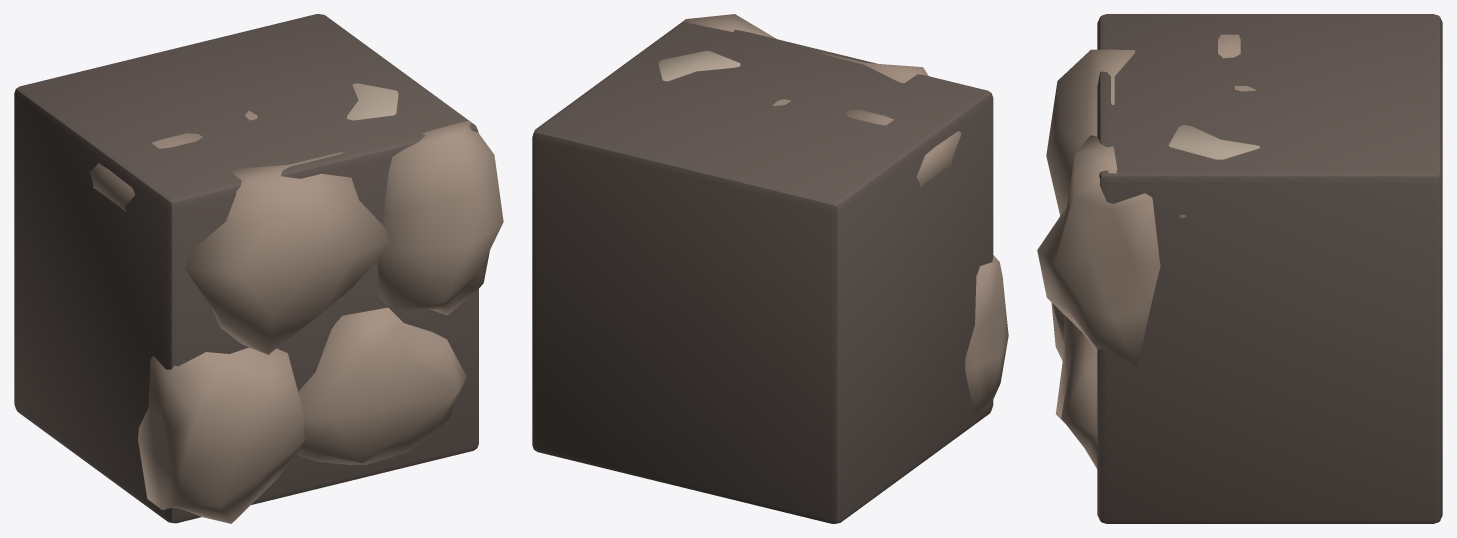
File: tile_rock_a.glb
3 views of the same model, side by side, from view 1: azimuth 30°, elevation 25°; view 2: azimuth 150°, elevation 25°; view 3: azimuth 270°, elevation 25° (orthographic). The views are drawn at different scales.
Visible parts, largest first — view 1: tile_rock_a; view 2: tile_rock_a; view 3: tile_rock_a.
Part boxes in pixels (x1,y1,x2,y2): tile_rock_a: (14, 14, 503, 523); tile_rock_a: (532, 14, 1008, 523); tile_rock_a: (1037, 14, 1442, 523).
Bounding box in the file's own units: 0.5 × 0.5 × 0.5168.
